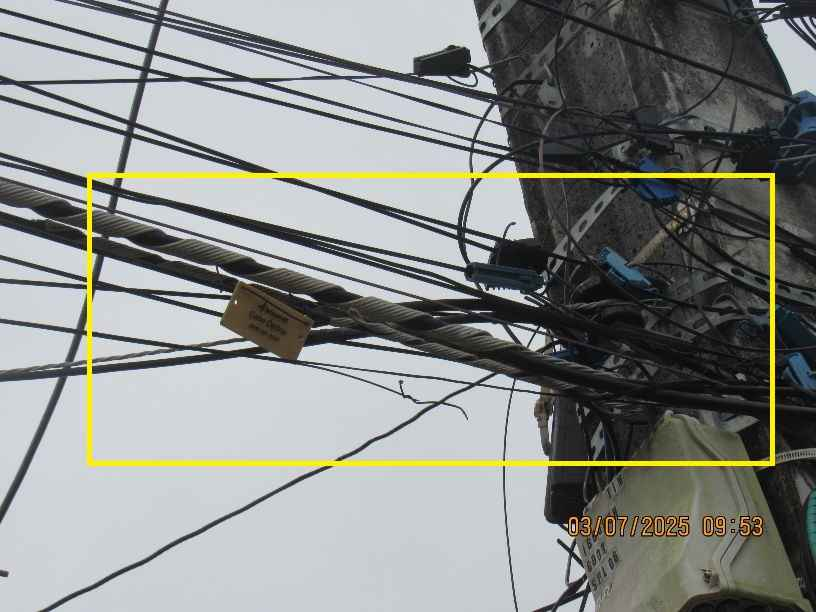caixa_derivacao: (575, 416, 810, 610)
drop: (453, 224, 547, 292), (623, 155, 698, 223), (398, 25, 480, 77), (612, 90, 679, 150), (588, 246, 659, 302), (530, 130, 587, 170)
fibra_optica: (224, 277, 323, 376)
